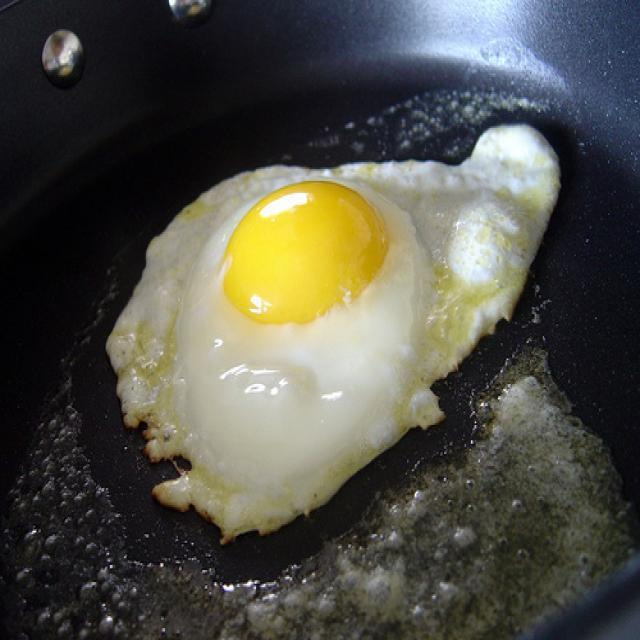Egg: (101, 103, 570, 540)
